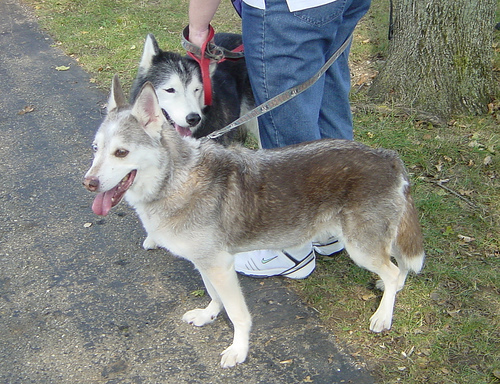dog: (80, 73, 427, 369), (128, 29, 260, 149)
